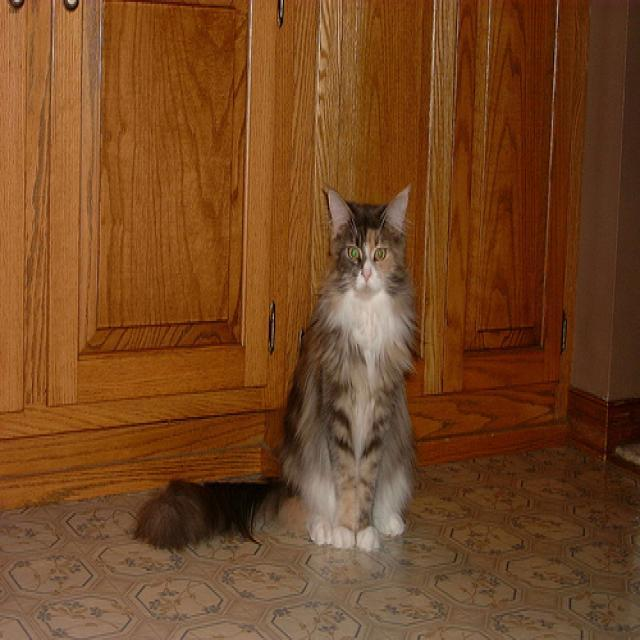Maine_Coon: (325, 182, 407, 298)
